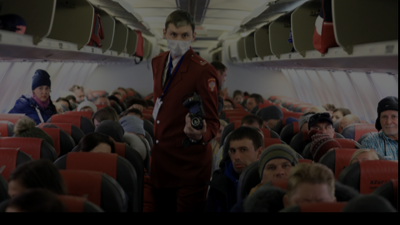with_mask: (168, 30, 193, 56)
without_mask: (232, 140, 256, 173), (381, 114, 398, 137), (34, 86, 52, 101), (218, 73, 228, 89)
